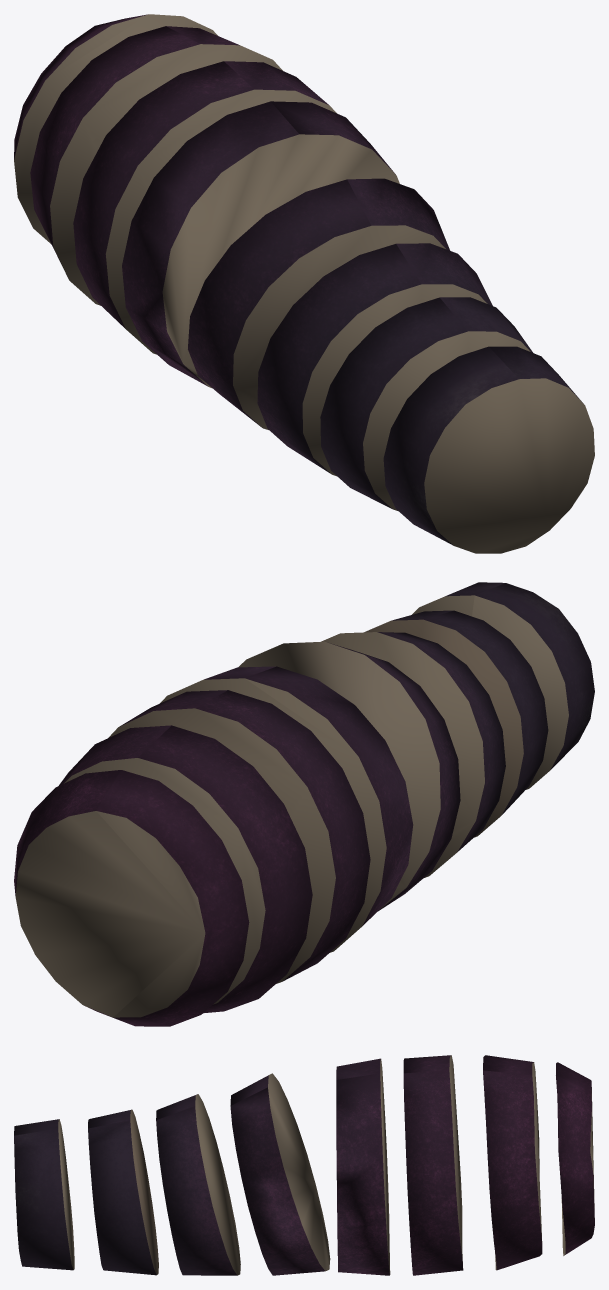
The model's file is EggplantCut04.fbx.
3 views of the same model, one above another, from view 1: azimuth 30°, elevation 25°; view 2: azimuth 150°, elevation 25°; view 3: azimuth 270°, elevation 25° (orthographic). The views are drawn at different scales.
Parts seen in each view (by area): view 1: Eggplant.004, Eggplant.006, Eggplant.002, Eggplant.005, Eggplant.001, Eggplant, Eggplant.003, Eggplant.007; view 2: Eggplant.007, Eggplant.003, Eggplant.001, Eggplant.002, Eggplant.006, Eggplant.005, Eggplant.004, Eggplant; view 3: Eggplant.002, Eggplant.001, Eggplant.005, Eggplant.006, Eggplant.003, Eggplant, Eggplant.004, Eggplant.007.
Part boxes in pixels (x1,y1,x2,y2): Eggplant.004: (383,346,594,553); Eggplant.006: (122,101,399,387); Eggplant.002: (188,178,449,429); Eggplant.005: (257,243,492,476); Eggplant.001: (73,61,336,354); Eggplant: (320,297,532,511); Eggplant.003: (30,26,282,305); Eggplant.007: (14,14,217,244); Eggplant.007: (14,770,249,1026); Eggplant.003: (59,725,312,1013); Eggplant.001: (108,690,370,983); Eggplant.002: (238,641,460,911); Eggplant.006: (160,666,413,952); Eggplant.005: (321,632,505,877); Eggplant.004: (412,582,594,789); Eggplant: (364,610,548,837); Eggplant.002: (230,1073,330,1275); Eggplant.001: (403,1055,463,1275); Eggplant.005: (156,1094,240,1275); Eggplant.006: (336,1058,390,1275); Eggplant.003: (483,1055,542,1270); Eggplant: (88,1109,158,1275); Eggplant.004: (14,1119,74,1270); Eggplant.007: (556,1062,594,1255).
Bounding box in the file's own units: 1185 × 1207 × 3144.
